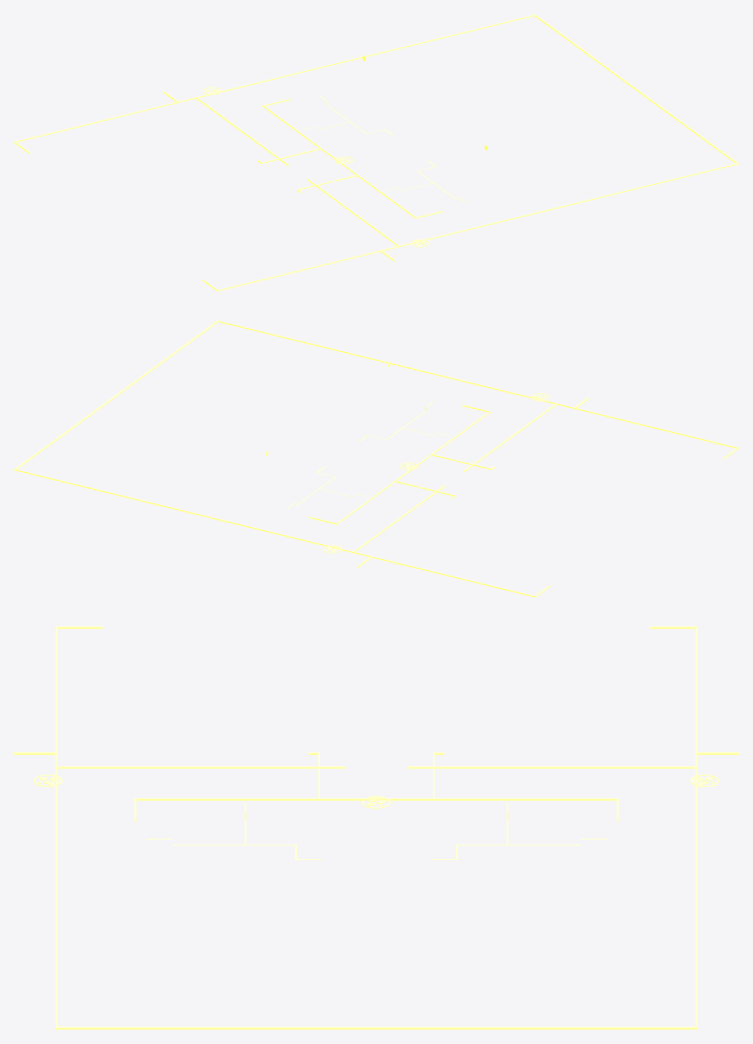
The model's file is GroundLights_High.glb.
The picture shows the model from 3 angles, top to bottom: view 1: azimuth 30°, elevation 25°; view 2: azimuth 150°, elevation 25°; view 3: azimuth 270°, elevation 25°; orthographic projection. The views are drawn at different scales.
Parts seen in each view (by area): view 1: Cube.069, Cube.070; view 2: Cube.069, Cube.070; view 3: Cube.069, Cube.070.
Part boxes in pixels (box(x1,y1,x2,y2)): Cube.069: box(14, 14, 738, 291); Cube.070: box(262, 98, 443, 218); Cube.069: box(14, 320, 738, 597); Cube.070: box(309, 404, 490, 524); Cube.069: box(14, 626, 738, 1029); Cube.070: box(134, 798, 618, 821).
Size of the model in its own units: 74.46 by 5.95 by 56.83.
